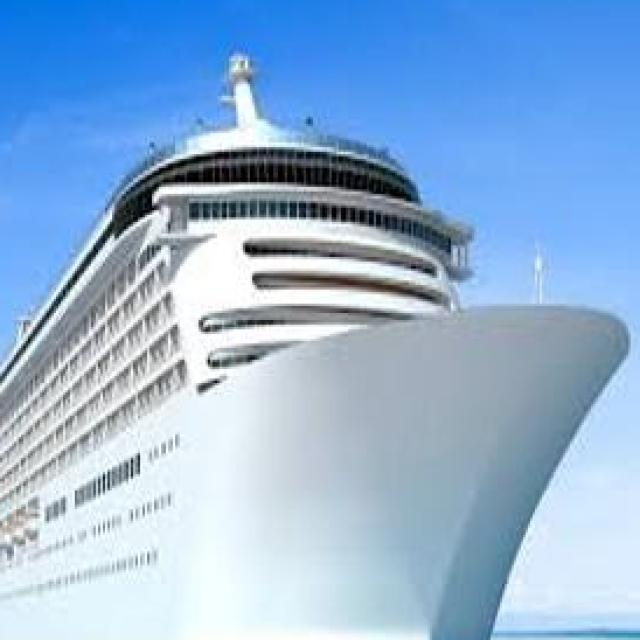passenger ship: (0, 53, 640, 640)
